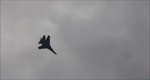maybay_muctieu: (38, 34, 57, 57)
